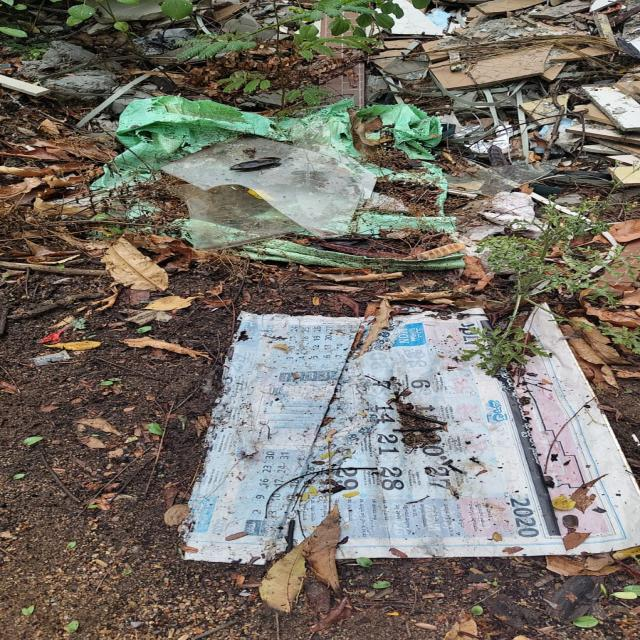paper: (166, 298, 640, 580)
